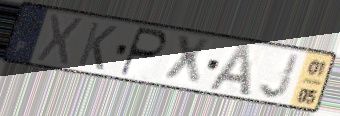A: (206, 42, 255, 98)
J: (257, 51, 302, 100)
K: (75, 20, 120, 73)
P: (117, 25, 170, 79)
X: (34, 12, 86, 69), (163, 34, 213, 87)
